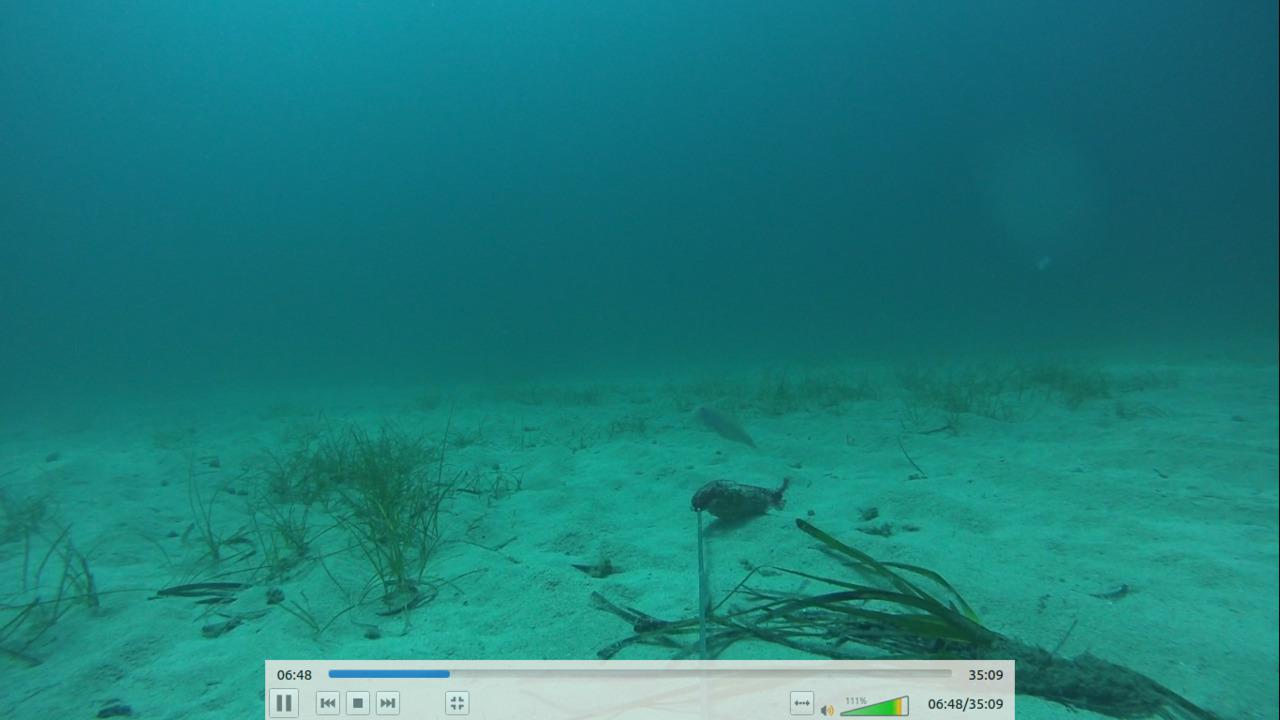raor: (684, 395, 759, 453)
